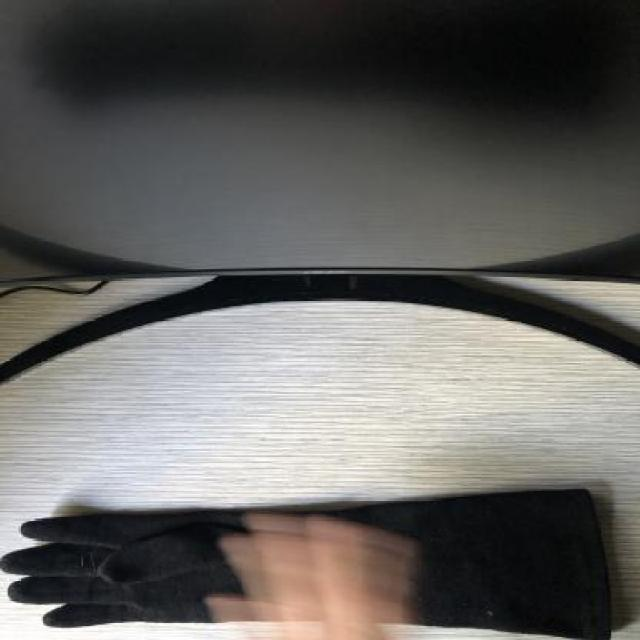glove: (0, 486, 612, 639)
